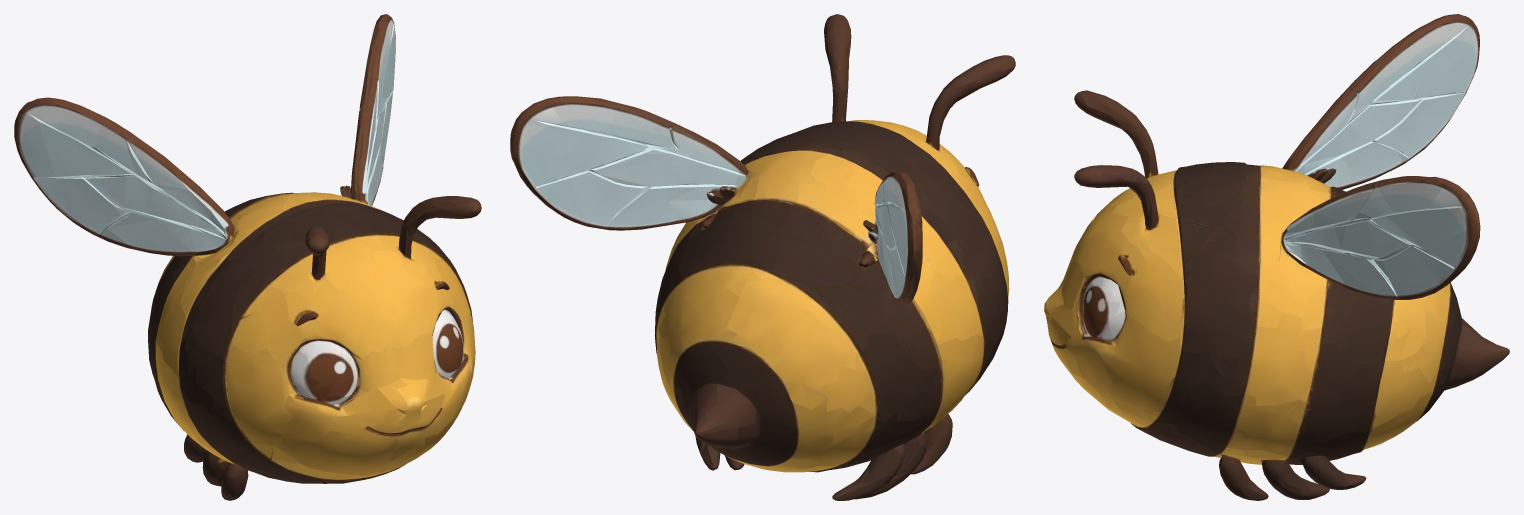
The model's file is pet_bumble.glb.
3 renders of one model, left to right at view 1: azimuth 30°, elevation 25°; view 2: azimuth 150°, elevation 25°; view 3: azimuth 270°, elevation 25°, orthographic. The views are drawn at different scales.
Bounding box in the file's own units: 1.83 × 1.66 × 1.9.
1 material, 1 textured.
